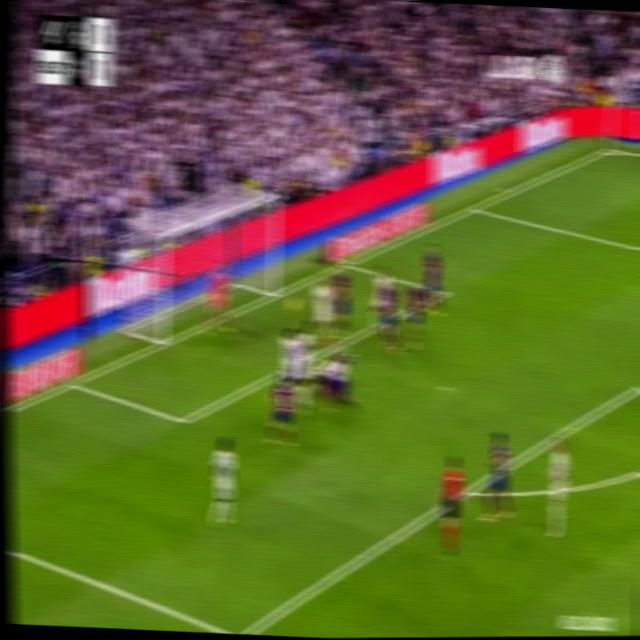bigarea_bottom_inner: (229, 619, 251, 634)
bigarea_bottom_outter: (65, 375, 80, 391)
bottom_arc_area_intersection: (459, 477, 478, 505)
midline_top_intersection: (270, 185, 284, 201)
smallarea_bottom_inner: (175, 407, 192, 434)
smallarea_top_outter: (339, 256, 354, 271)
